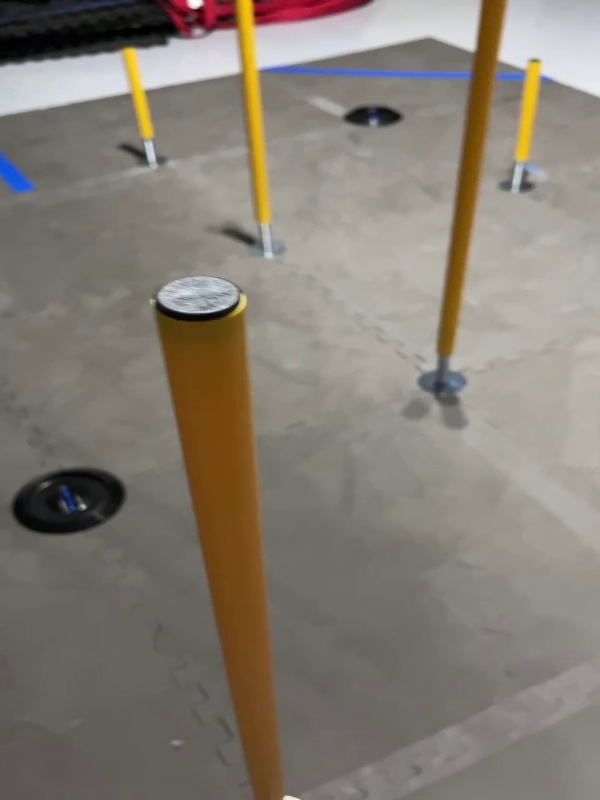top: (142, 273, 249, 327)
